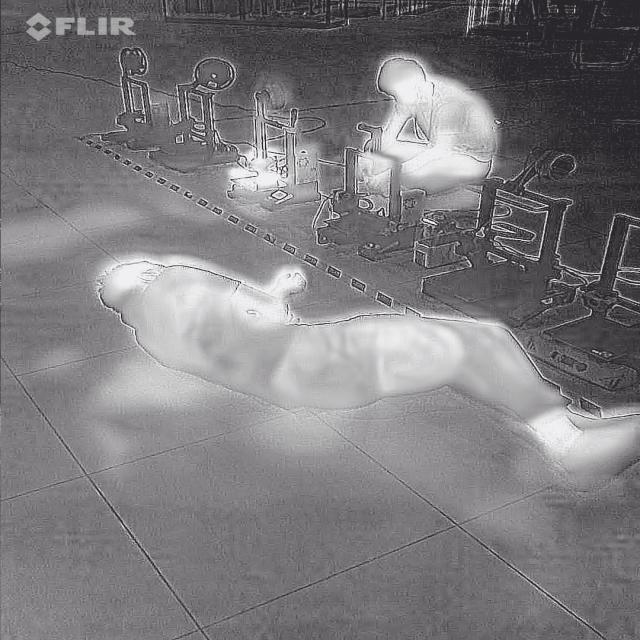Victim: (81, 239, 633, 502), (327, 47, 511, 206)
